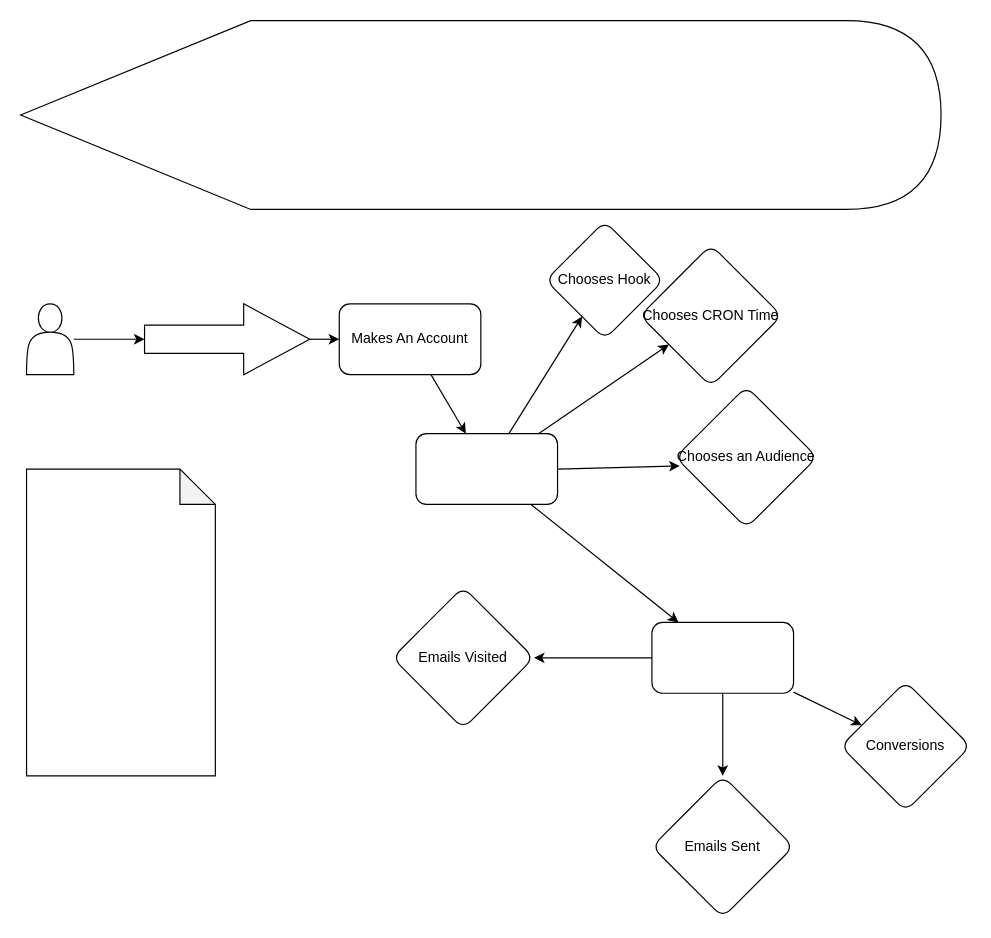
Some shapes in this 991 by 938 pixel diagram are drawn without their labels. Each missing label, with the centre of its shape:
Creates Campaign: the point at 486,468
Data Is shown: the point at 722,657
MVP 1. QR Code 2. All Audience: the point at 120,622
MVP 1. QR Code 2. Create Campaigns 3. Edit/Delete Campaigns 4. MongoDB: the point at 480,114
